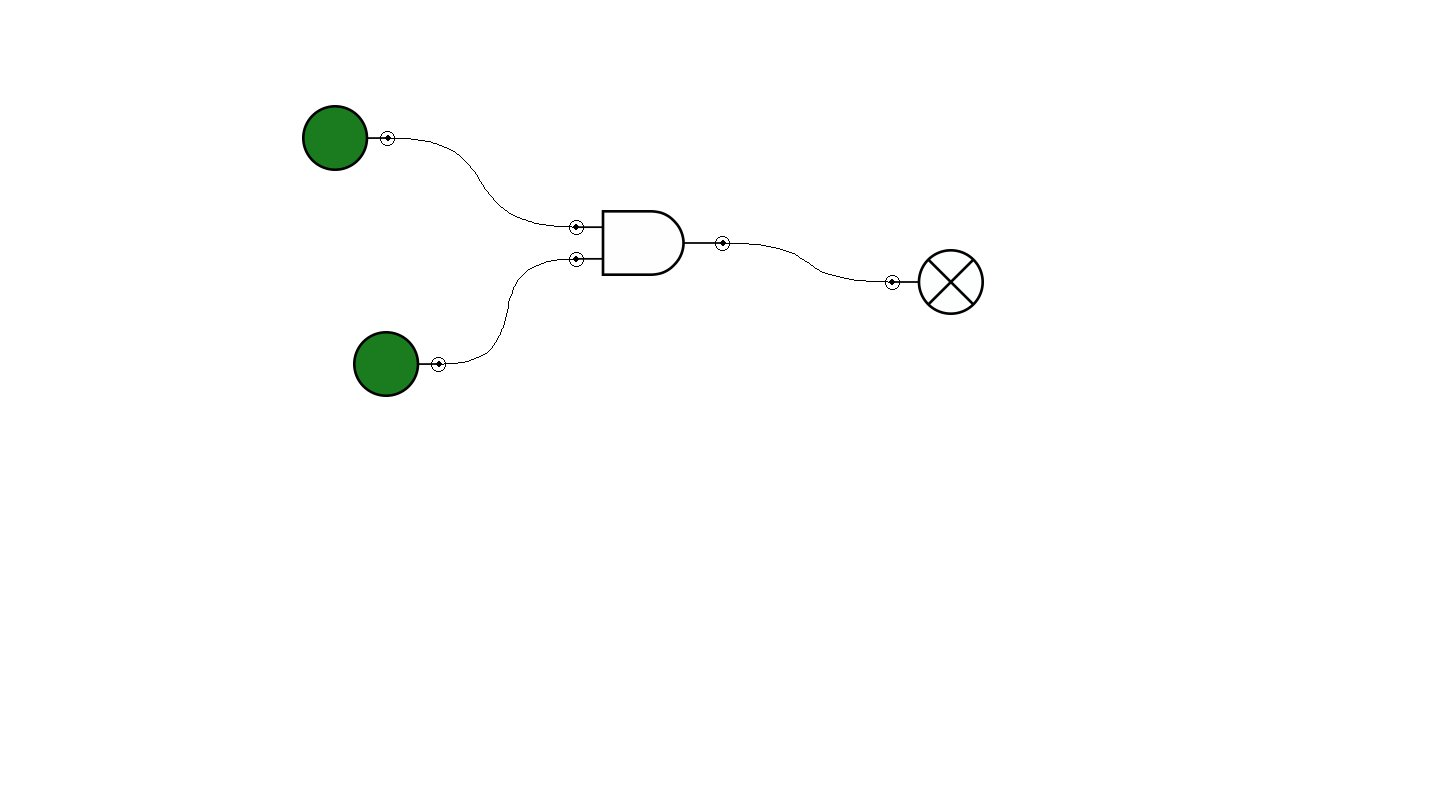and: (569, 210, 730, 276)
bulb: (885, 249, 984, 315)
switch_True: (353, 331, 446, 397), (302, 105, 395, 171)
